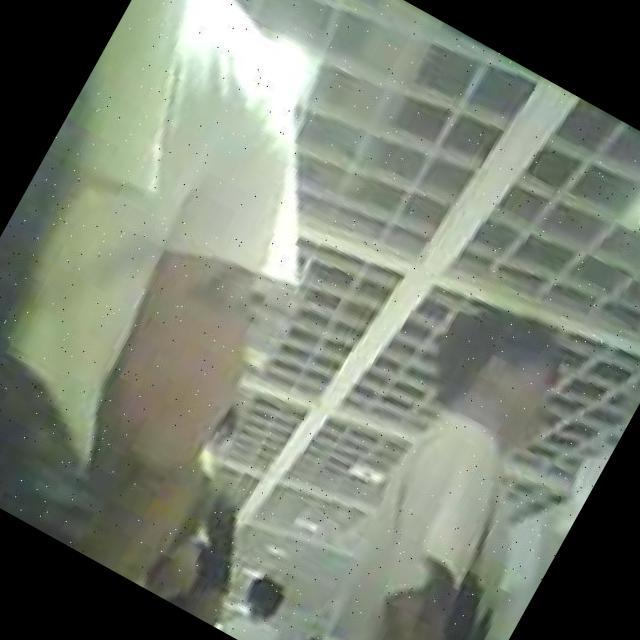person: (0, 0, 435, 593), (267, 282, 640, 640), (124, 397, 316, 628), (220, 563, 311, 640)
